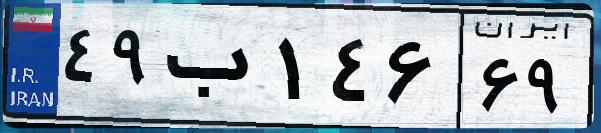1: (270, 28, 330, 110)
4: (330, 28, 385, 110), (57, 26, 110, 100)
6: (385, 28, 445, 110), (475, 38, 525, 113)
9: (525, 38, 570, 115), (110, 28, 158, 98)
ب: (158, 20, 270, 120)
